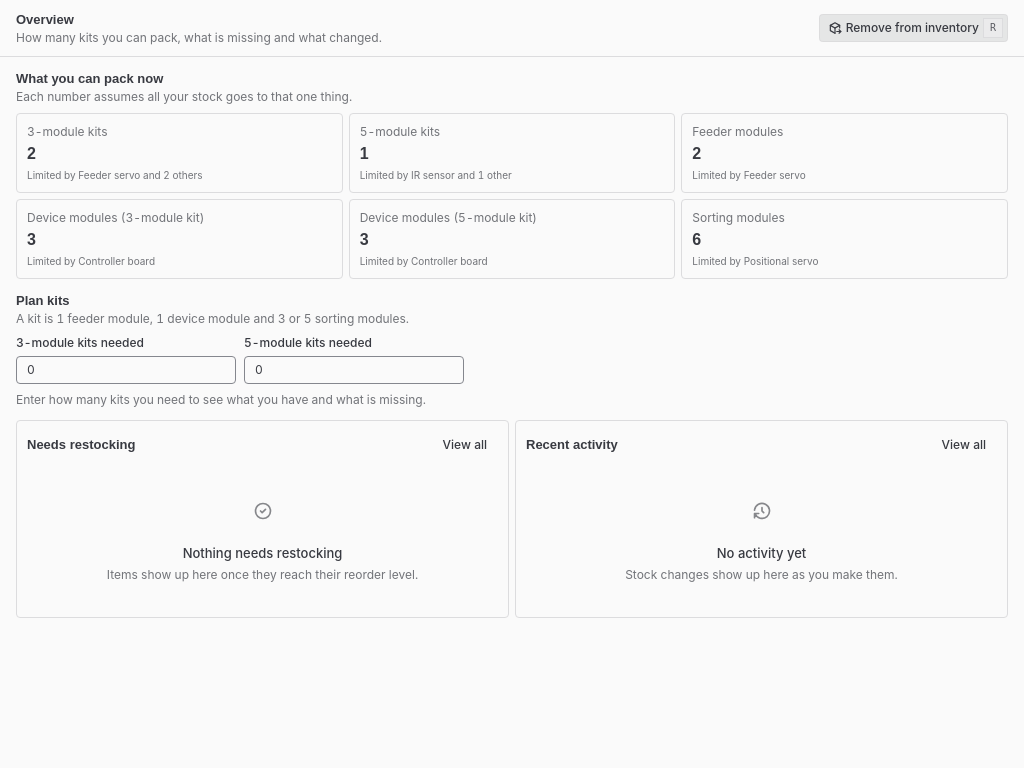
HomePage kit stats › plans kits and lists what is in stock and what is missing
Type "1" into the number field labelled "3-module kits needed". click: [126, 370]
box: [16,356,236,384]
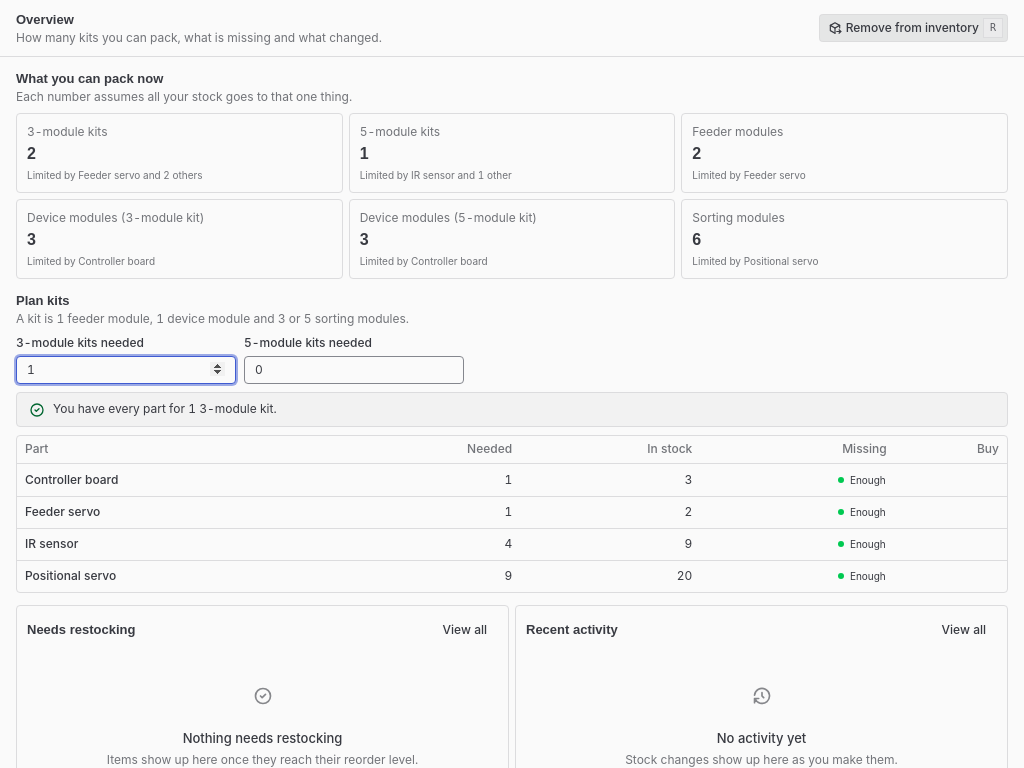
Type "1" into the number field labelled "5-module kits needed". click: [354, 370]
box: [244,356,464,384]
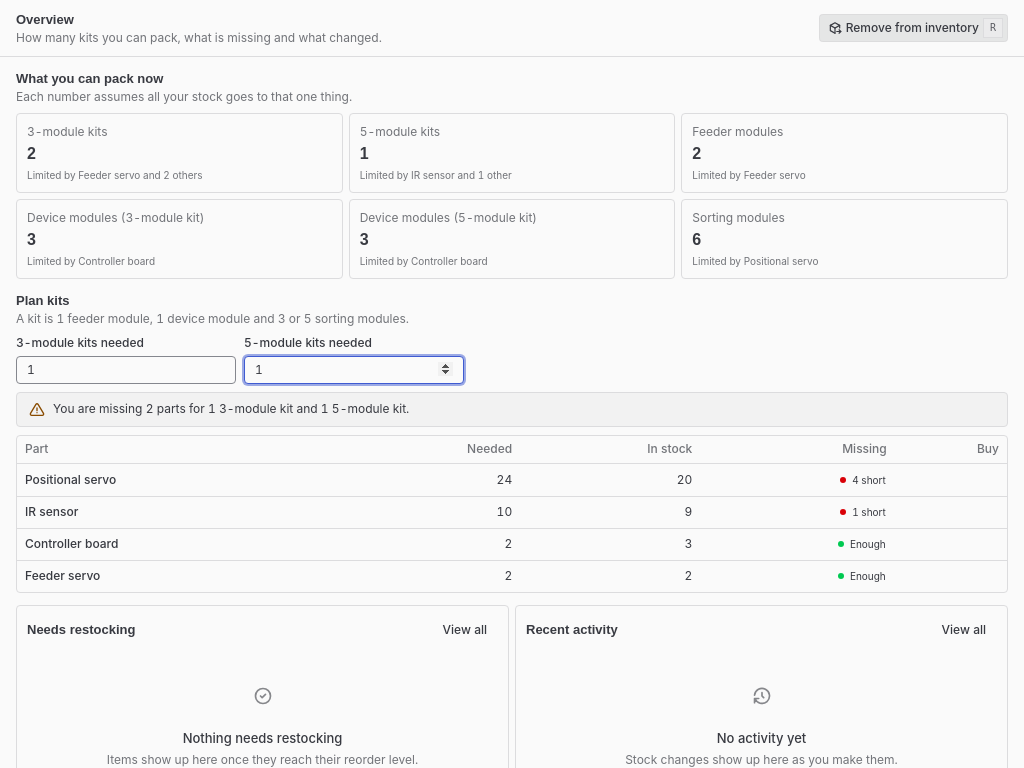
Expected: the text "20" is shown, [520,464,700,496]
Expected: the text "You are missing 2 parts for 1 3-module kit and 1 5-module kit." is shown, [53,400,409,416]
Expected: the text "24" is shown, [340,464,520,496]
